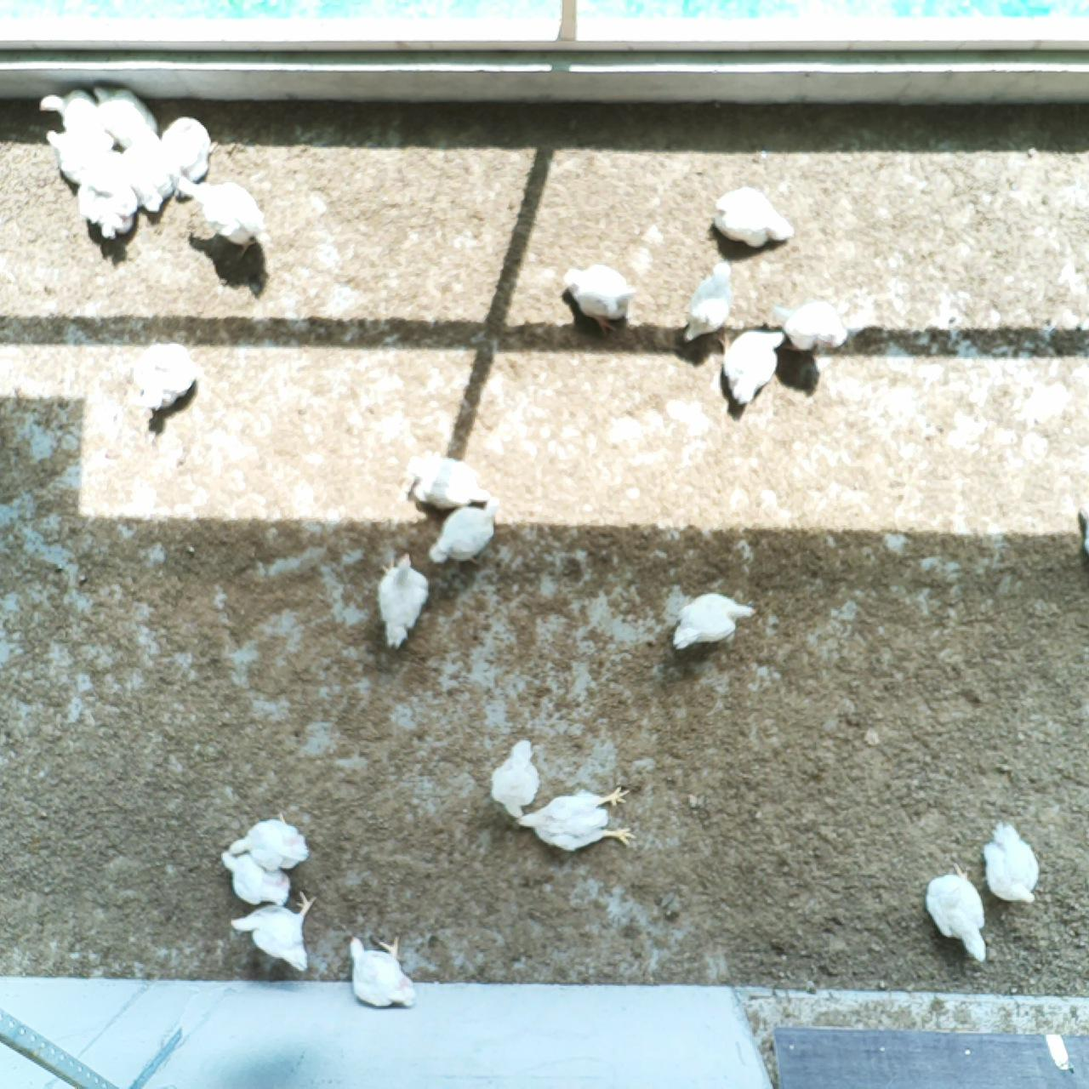chicken: (177, 168, 271, 266), (515, 783, 636, 856), (227, 889, 320, 976), (924, 859, 992, 967), (976, 817, 1045, 909), (713, 181, 800, 252), (717, 320, 785, 410), (398, 449, 495, 512), (375, 549, 434, 652), (346, 928, 419, 1011), (671, 585, 760, 653), (560, 260, 638, 334), (226, 808, 313, 873), (676, 259, 738, 348), (427, 493, 503, 565), (768, 294, 859, 354), (130, 340, 199, 418), (76, 163, 139, 243), (37, 83, 113, 148), (93, 81, 160, 151), (121, 132, 176, 217), (221, 846, 294, 907), (489, 737, 543, 819), (170, 114, 215, 196), (44, 125, 106, 183)
